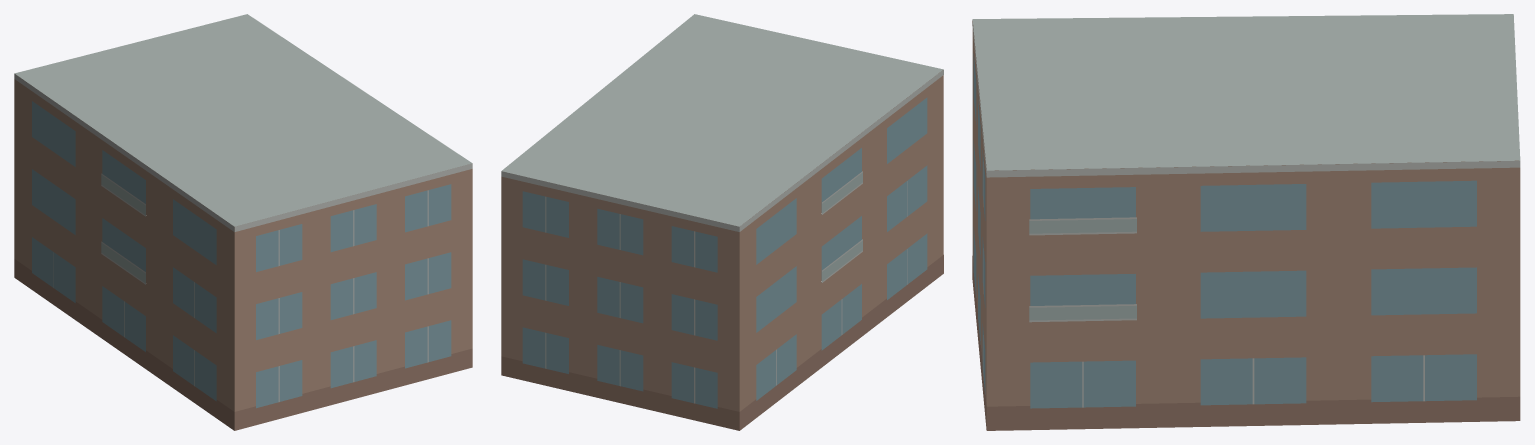
Rendered from survey-upis-32940099.glb.
3 renders of one model, left to right at view 1: azimuth 30°, elevation 25°; view 2: azimuth 150°, elevation 25°; view 3: azimuth 270°, elevation 25°, orthographic. The views are drawn at different scales.
Visible parts, largest first — view 1: survey-upis-32940099.tmp; view 2: survey-upis-32940099.tmp; view 3: survey-upis-32940099.tmp.
Boxes of the visible parts, bbox=[...] form: survey-upis-32940099.tmp: bbox=[14, 14, 472, 430]; survey-upis-32940099.tmp: bbox=[501, 14, 943, 430]; survey-upis-32940099.tmp: bbox=[972, 14, 1520, 430].
Bounding box in the file's own units: 11.82 × 9.15 × 17.46.
